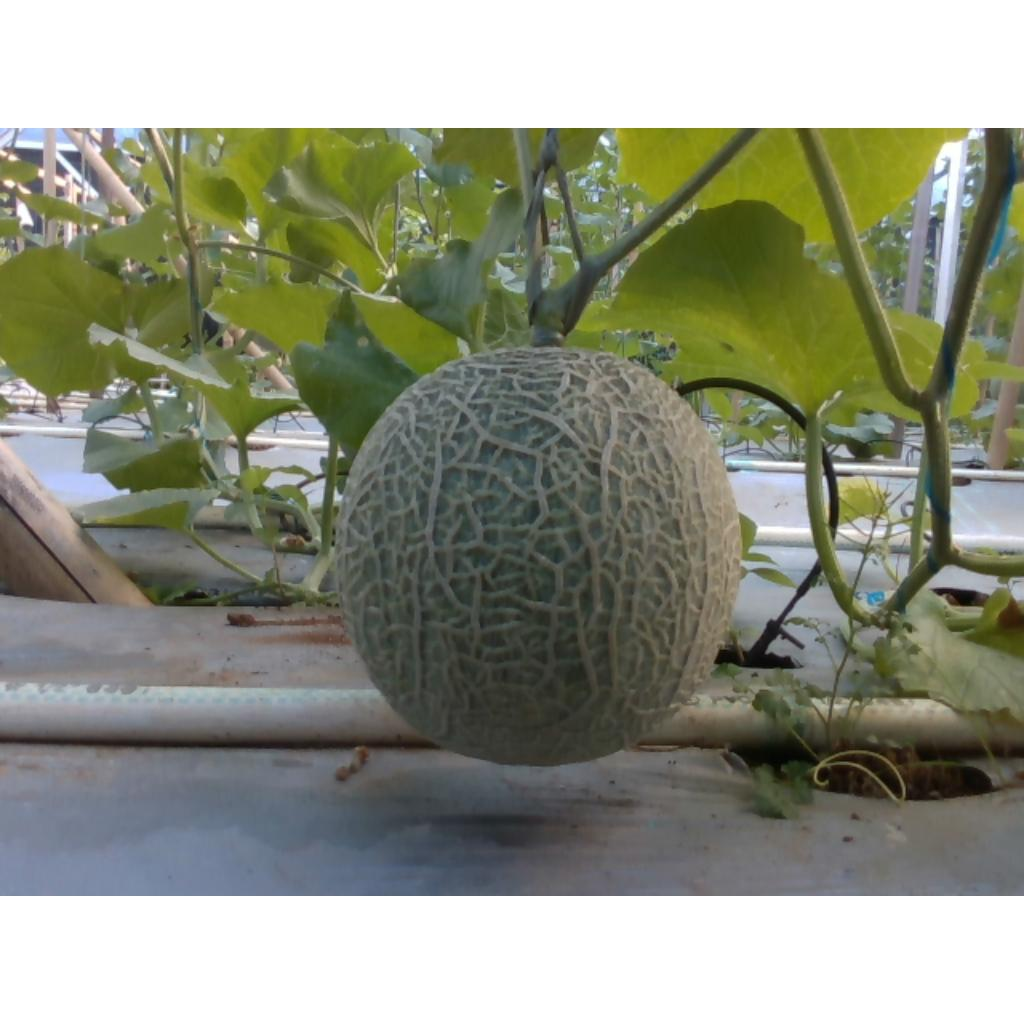melon: (338, 349, 741, 766)
